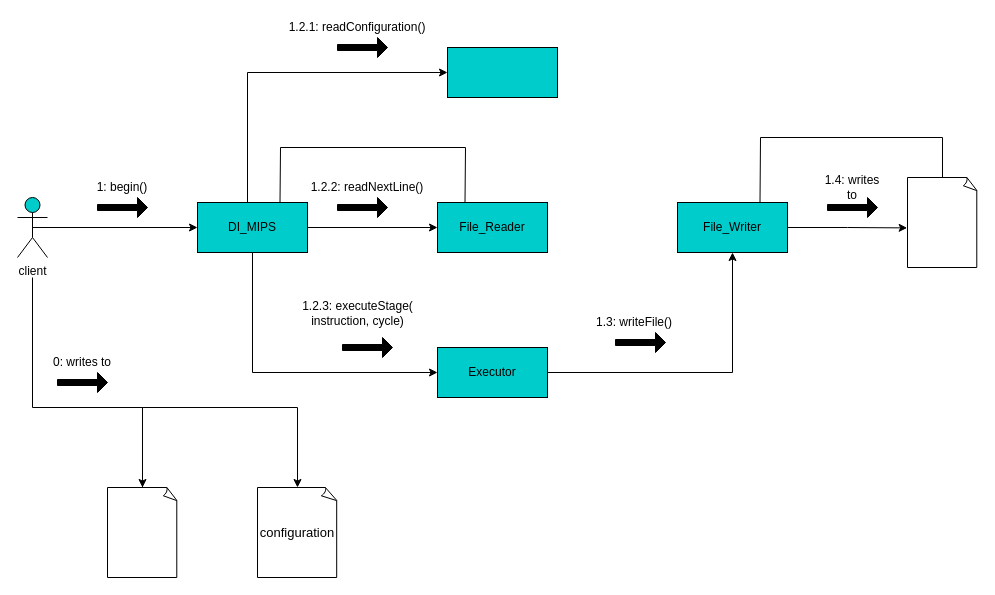
Some shapes in this 995 by 595 pixel diagram are drawn without their labels. The centre of each missing label's shape, as x and y in pixels:
"Configurator" goes at pixel 502 72.
"instructions" goes at pixel 142 532.
"output" goes at pixel 942 222.
